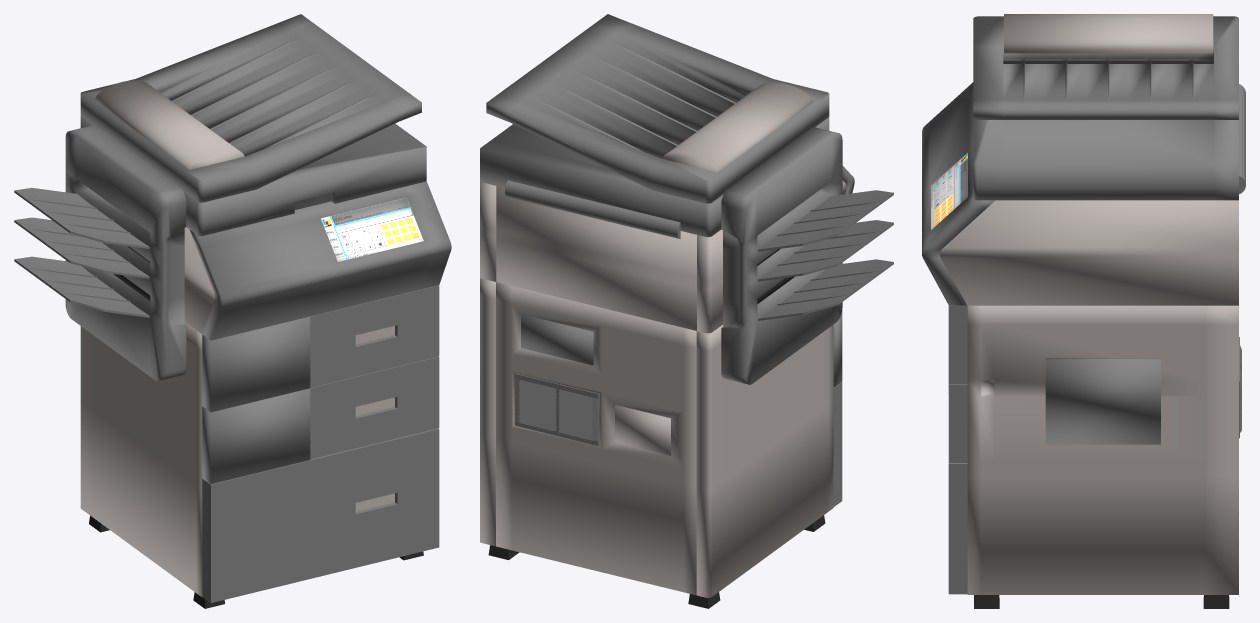
The model's file is printer.gltf.
The picture shows the model from 3 angles, left to right: view 1: azimuth 30°, elevation 25°; view 2: azimuth 150°, elevation 25°; view 3: azimuth 270°, elevation 25°; orthographic projection. The views are drawn at different scales.
Visible parts, largest first — view 1: Printer Body; view 2: Printer Body; view 3: Printer Body.
Part boxes in pixels (left/top/right/bottom): Printer Body: left=14, top=14, right=451, bottom=608; Printer Body: left=480, top=14, right=893, bottom=608; Printer Body: left=922, top=14, right=1245, bottom=608.
Bounding box in the file's own units: 0.9169 × 1.22 × 0.7149.
4 materials, 1 textured.
